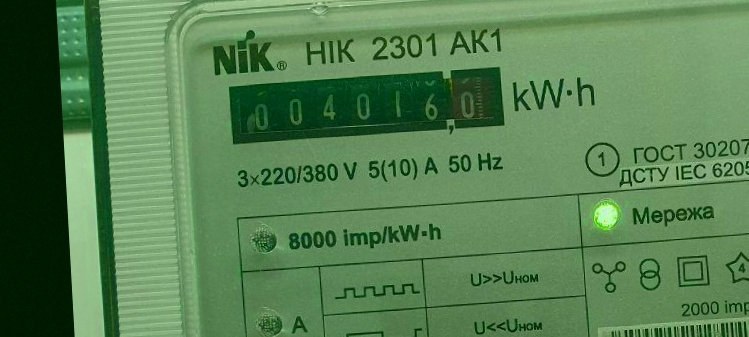0: (351, 88, 374, 124), (250, 98, 273, 133), (284, 94, 305, 129), (455, 87, 477, 120)
1: (389, 85, 406, 120)
4: (318, 89, 338, 124)
6: (419, 88, 440, 121)
screen: (220, 59, 513, 152)
